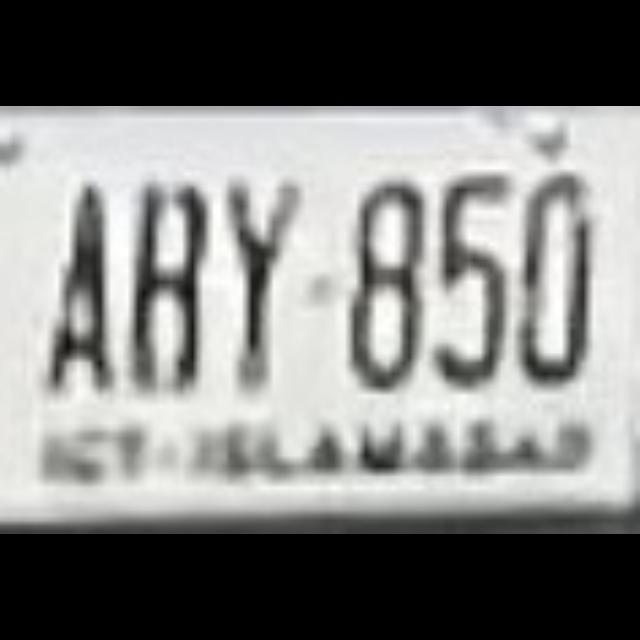0: (520, 155, 602, 415)
5: (440, 155, 520, 415)
8: (361, 155, 442, 415)
A: (39, 155, 120, 415)
H: (120, 155, 200, 415)
Y: (198, 155, 280, 415)
